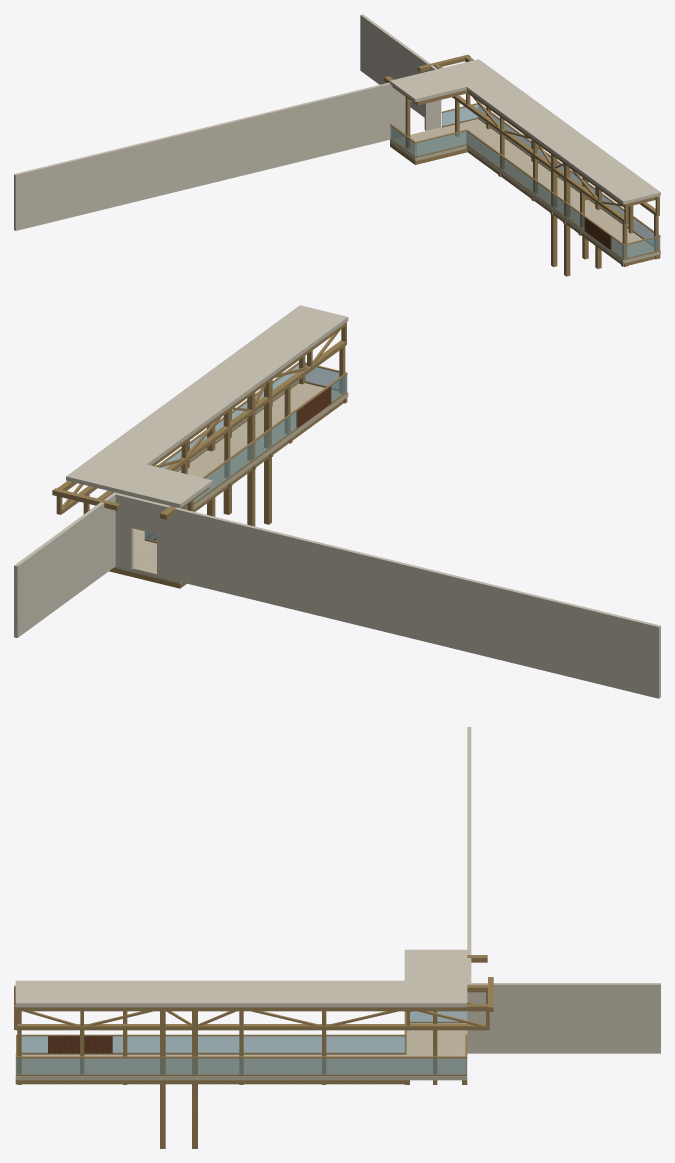
The model's file is STAR_ATLAS_D17_RECEIVING_FIRST_r001.glb.
The picture shows the model from 3 angles, top to bottom: view 1: azimuth 30°, elevation 25°; view 2: azimuth 150°, elevation 25°; view 3: azimuth 270°, elevation 25°; orthographic projection. The views are drawn at different scales.
Parts seen in each view (by area): view 1: D17R_SouthWallReceived, D17R_ReceivedRoof, D17R_ReceivedFloor, D17R_EastWallReceived, D17R_GuardInnerFore, D17R_TrussLower_0, D17R_GuardOuter, D17R_GuardVestSouth, D17R_D16Pier_01, D17R_D16Pier_00, D17R_TrussUpper_0, D17R_GuardEnd (+2 smaller); view 2: D17R_SouthWallReceived, D17R_ReceivedRoof, D17R_EastWallReceived, D17R_ReceivedFloor, D17R_GuardInnerFore, D17R_TrussLower_0, D17R_D16Pier_00, D17R_D16Pier_01, D17R_TrussUpper_0, D17R_GuardOuter, D17R_HeldRoom823; view 3: D17R_ReceivedRoof, D17R_EastWallReceived, D17R_ReceivedFloor, D17R_GuardOuter, D17R_GuardInnerFore, D17R_TrussLower_1, D17R_TrussUpper_1, D17R_FloorLong_1, D17R_SouthWallReceived, D17R_GuardOuter_Cap, D17R_GuardOuter_Base, D17R_HeldRoom823 (+4 smaller).
Boxes of the visible parts, bbox=[...] form: D17R_SouthWallReceived: bbox=[14, 82, 441, 230]; D17R_ReceivedRoof: bbox=[390, 59, 660, 204]; D17R_ReceivedFloor: bbox=[390, 119, 660, 263]; D17R_EastWallReceived: bbox=[360, 14, 441, 127]; D17R_GuardInnerFore: bbox=[466, 131, 584, 230]; D17R_TrussLower_0: bbox=[452, 95, 624, 223]; D17R_GuardOuter: bbox=[478, 104, 660, 249]; D17R_GuardVestSouth: bbox=[416, 131, 466, 156]; D17R_D16Pier_01: bbox=[564, 164, 570, 276]; D17R_D16Pier_00: bbox=[551, 154, 557, 266]; D17R_TrussUpper_0: bbox=[434, 64, 624, 207]; D17R_GuardEnd: bbox=[623, 237, 659, 258]; D17R_SouthWallReceived: bbox=[112, 492, 660, 698]; D17R_ReceivedRoof: bbox=[66, 305, 348, 507]; D17R_EastWallReceived: bbox=[14, 493, 115, 637]; D17R_ReceivedFloor: bbox=[114, 383, 348, 583]; D17R_GuardInnerFore: bbox=[144, 411, 297, 538]; D17R_TrussLower_0: bbox=[166, 340, 346, 470]; D17R_D16Pier_00: bbox=[247, 392, 255, 526]; D17R_D16Pier_01: bbox=[264, 380, 271, 524]; D17R_TrussUpper_0: bbox=[97, 322, 346, 499]; D17R_GuardOuter: bbox=[161, 365, 298, 471]; D17R_HeldRoom823: bbox=[296, 386, 331, 427]; D17R_ReceivedRoof: bbox=[15, 949, 467, 1007]; D17R_EastWallReceived: bbox=[467, 983, 660, 1053]; D17R_ReceivedFloor: bbox=[15, 1023, 467, 1080]; D17R_GuardOuter: bbox=[17, 1058, 466, 1074]; D17R_GuardInnerFore: bbox=[112, 1036, 405, 1052]; D17R_TrussLower_1: bbox=[15, 1024, 487, 1030]; D17R_TrussUpper_1: bbox=[15, 1004, 487, 1011]; D17R_FloorLong_1: bbox=[15, 1080, 404, 1084]; D17R_SouthWallReceived: bbox=[467, 727, 471, 1053]; D17R_GuardOuter_Cap: bbox=[16, 1056, 466, 1058]; D17R_GuardOuter_Base: bbox=[17, 1074, 466, 1076]; D17R_HeldRoom823: bbox=[48, 1036, 112, 1053].
Size of the model in its own units: 37 by 9 by 36.1.
Materials: 6 (4 with a texture image).
